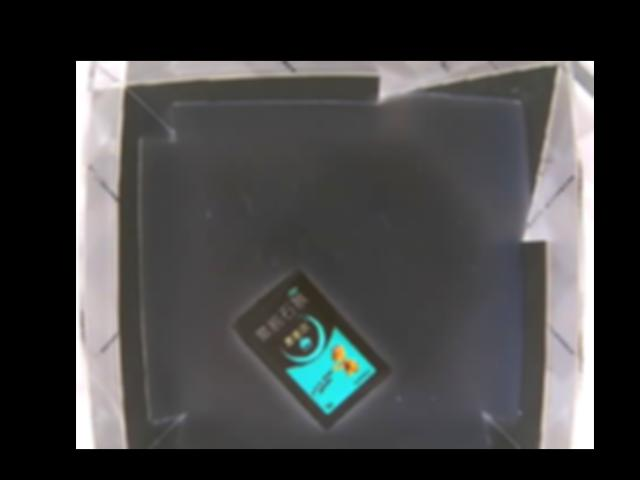Medicine: (232, 268, 392, 428)
